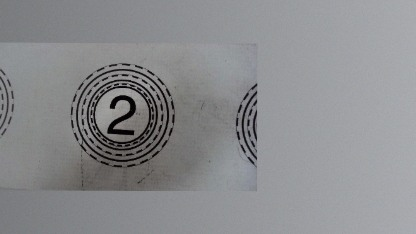2r: (68, 61, 175, 168)
